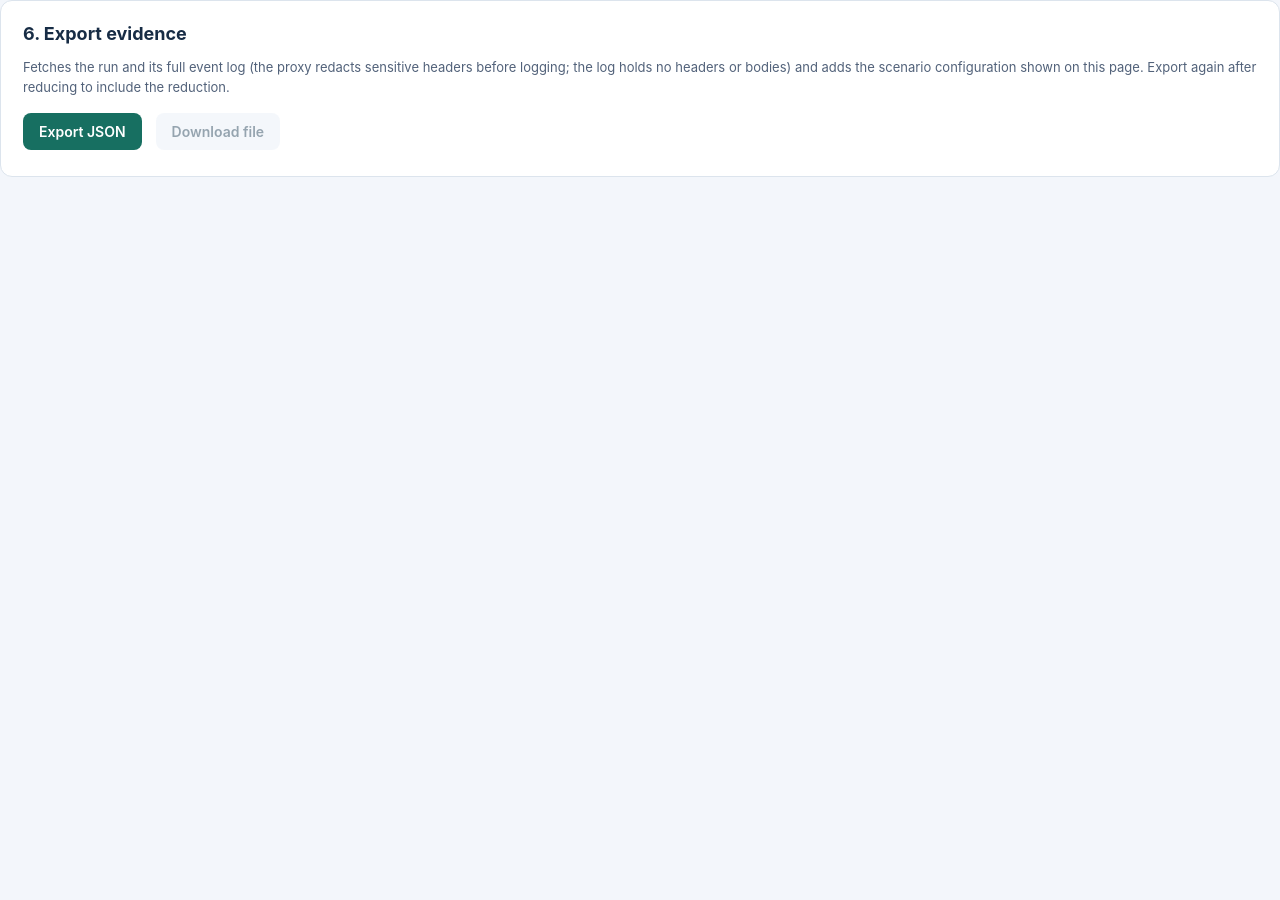
Scenario: <ExportPanel/> › exports the run with the scenario configuration
Expected: the button "Download file" is disabled, [156, 113, 280, 150]
Click the button "Export JSON": (82, 132) [23, 113, 142, 150]
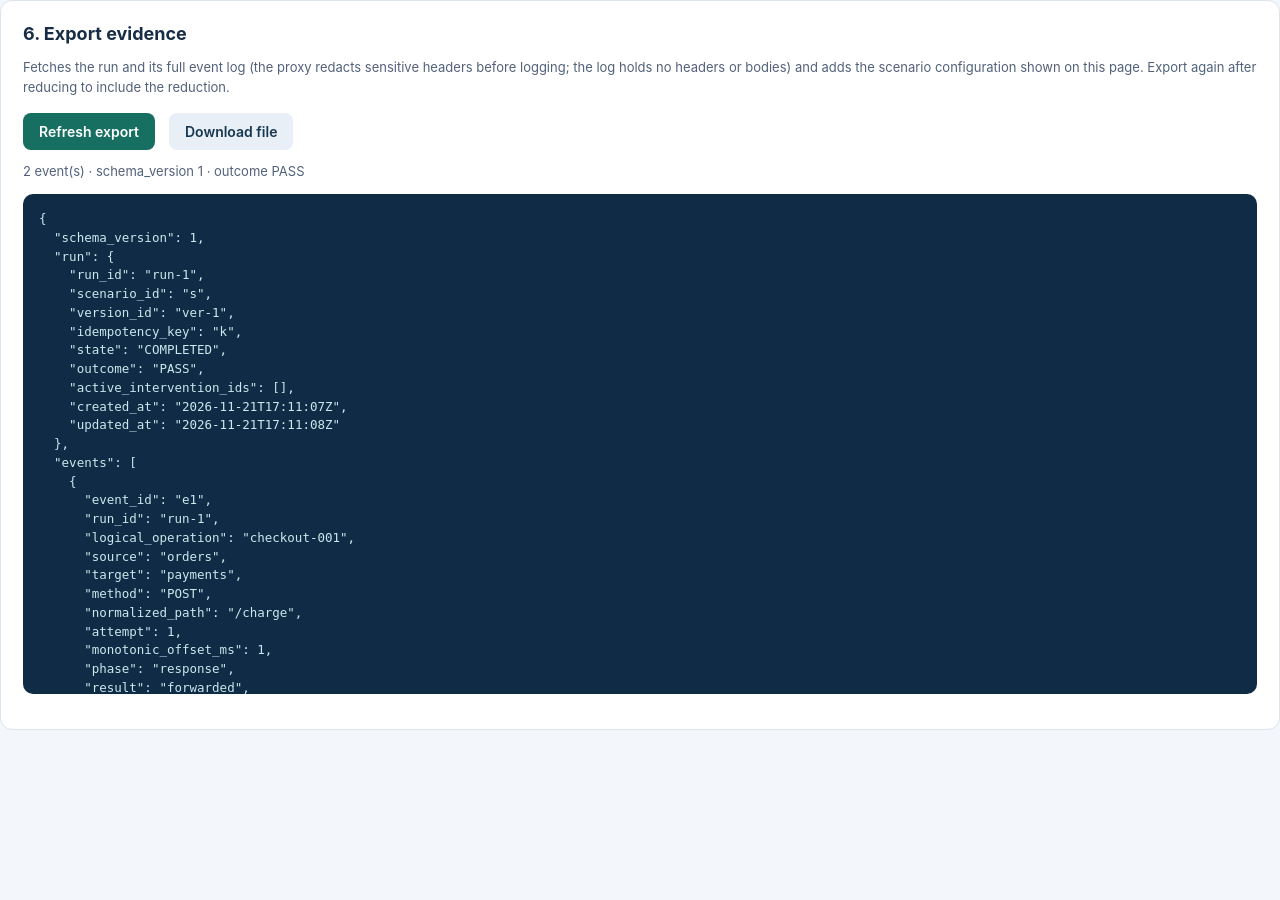
Expected: the text "2 event(s) · schema_version 1 · outcome PASS" is shown, [23, 163, 304, 179]
Expected: the button "Download file" is enabled, [169, 113, 294, 150]
Expected: the button "Refresh export" is shown, [23, 113, 155, 150]
